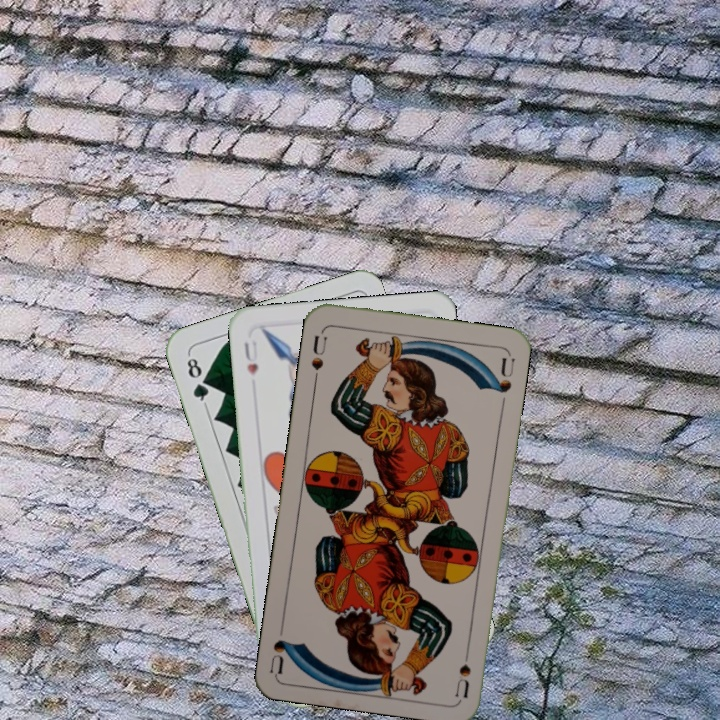G8: (182, 353, 212, 408)
HU: (240, 336, 261, 378)
SU: (307, 327, 330, 386), (451, 640, 474, 699)
